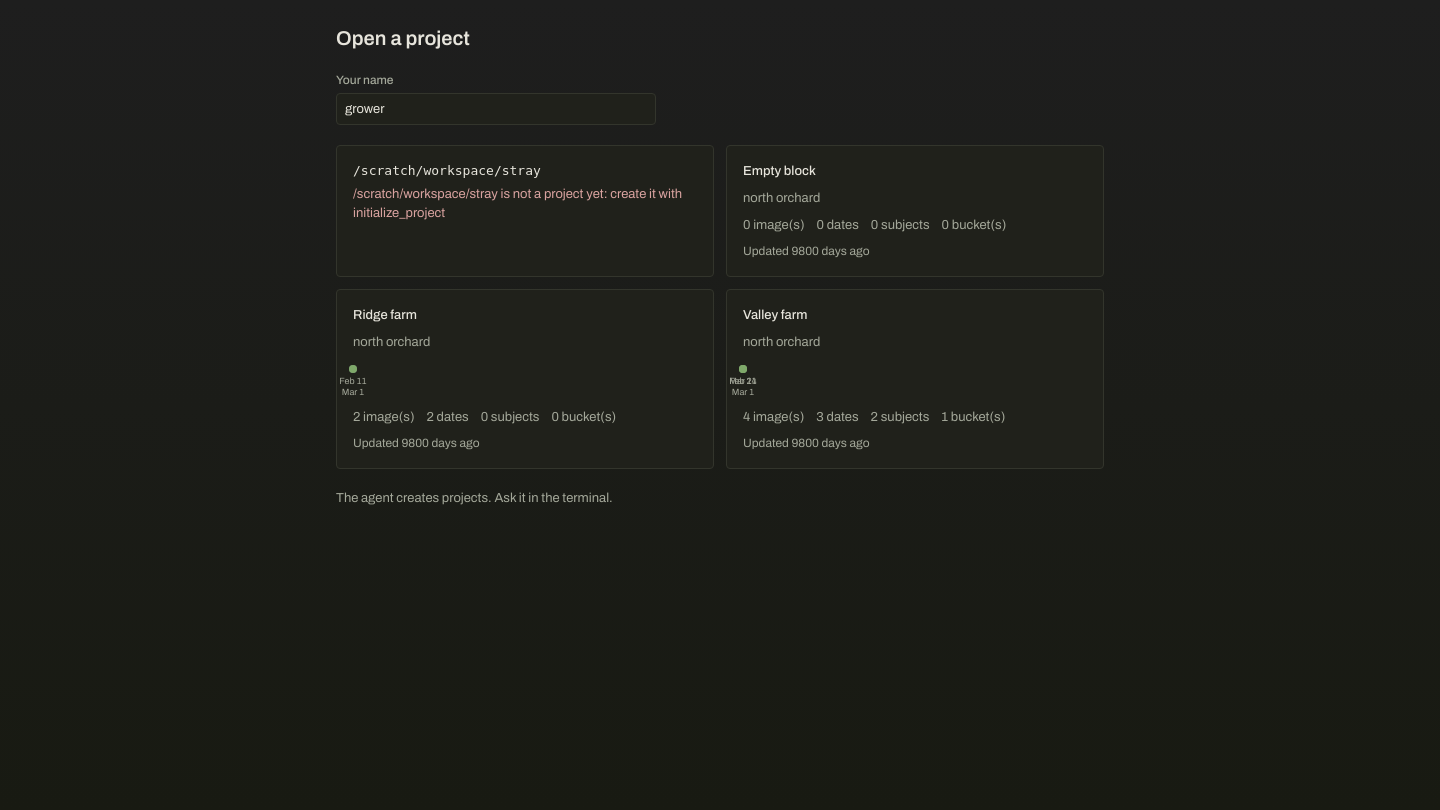
ProjectPicker › an open in flight › records the failure for the project it was started for while that project is chosen
The width and height of the screenshot is (1440, 810).
Click the text "Valley farm".
click(775, 316)  # box [743,306,807,325]
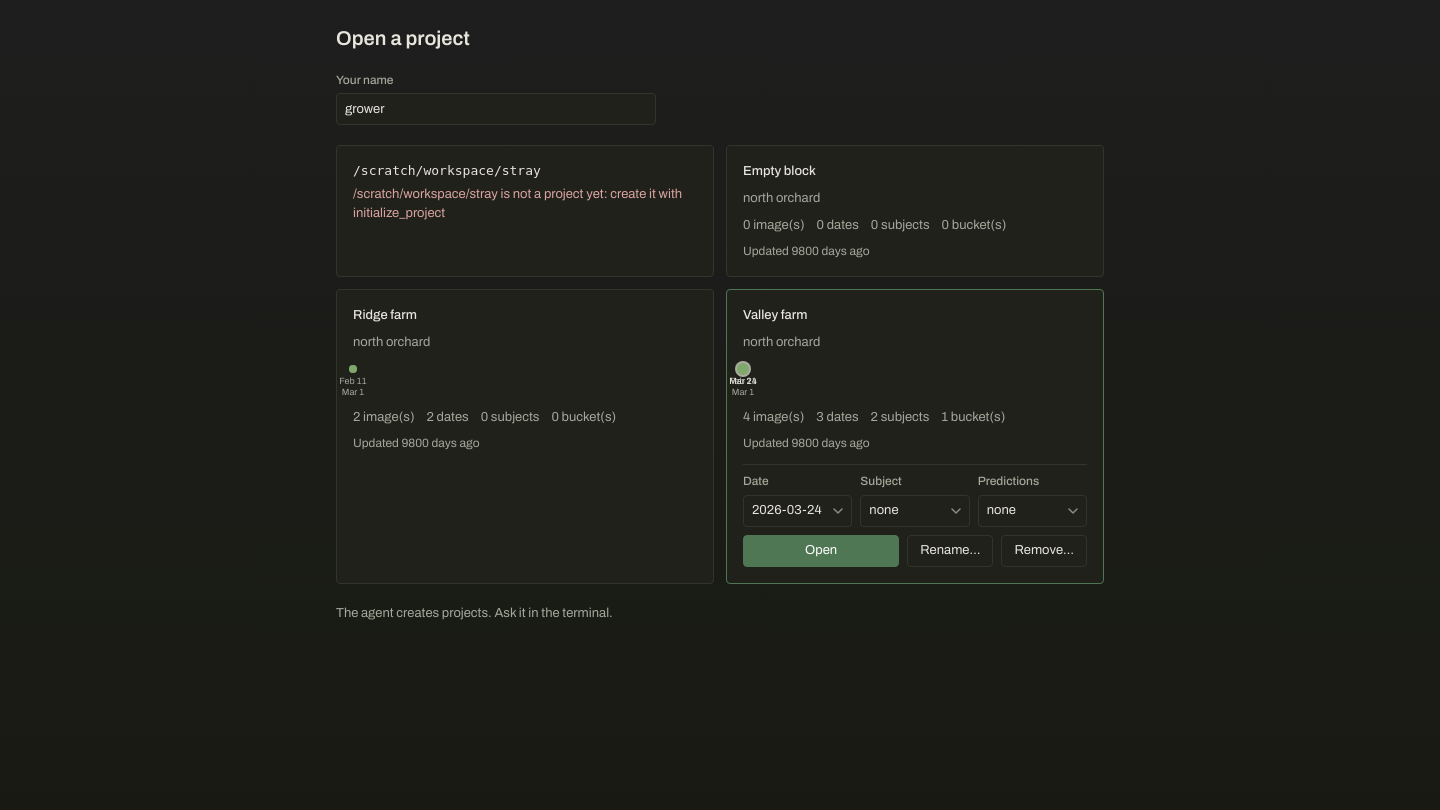
Click the button "Open".
click(821, 551)  # box [743,535,899,567]
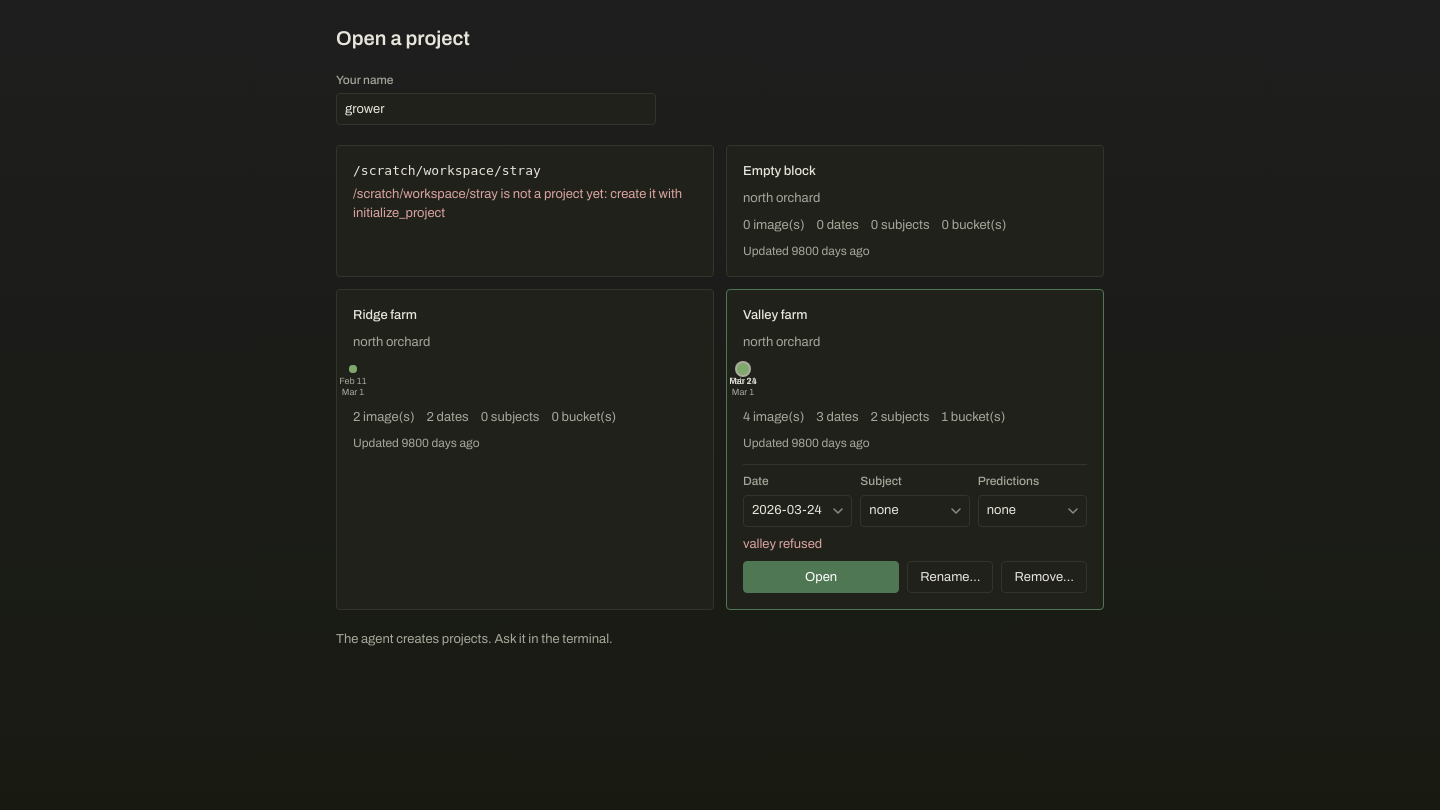
Result: the text "valley refused" is shown at [743,537,822,551]
